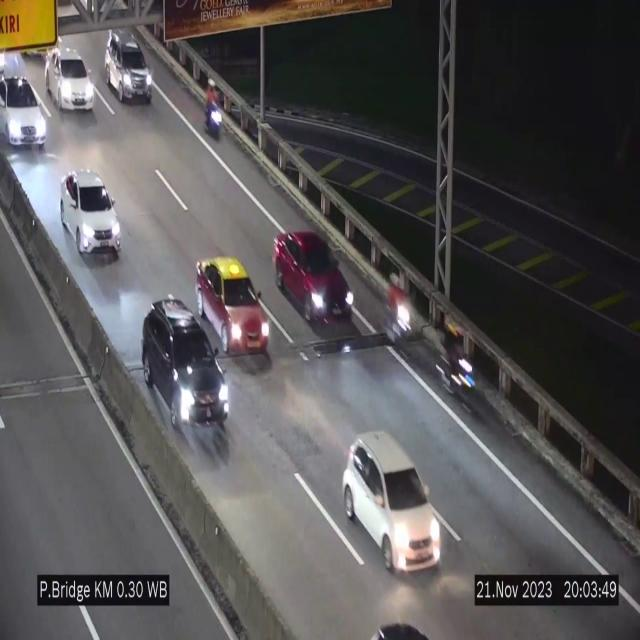Car: (343, 432, 441, 571), (140, 294, 232, 439), (273, 226, 353, 328), (194, 252, 270, 358), (61, 171, 121, 259), (0, 69, 49, 155), (104, 29, 152, 103), (45, 49, 95, 111)
Motorcycle: (442, 323, 474, 416), (384, 264, 412, 349), (201, 74, 223, 144)
